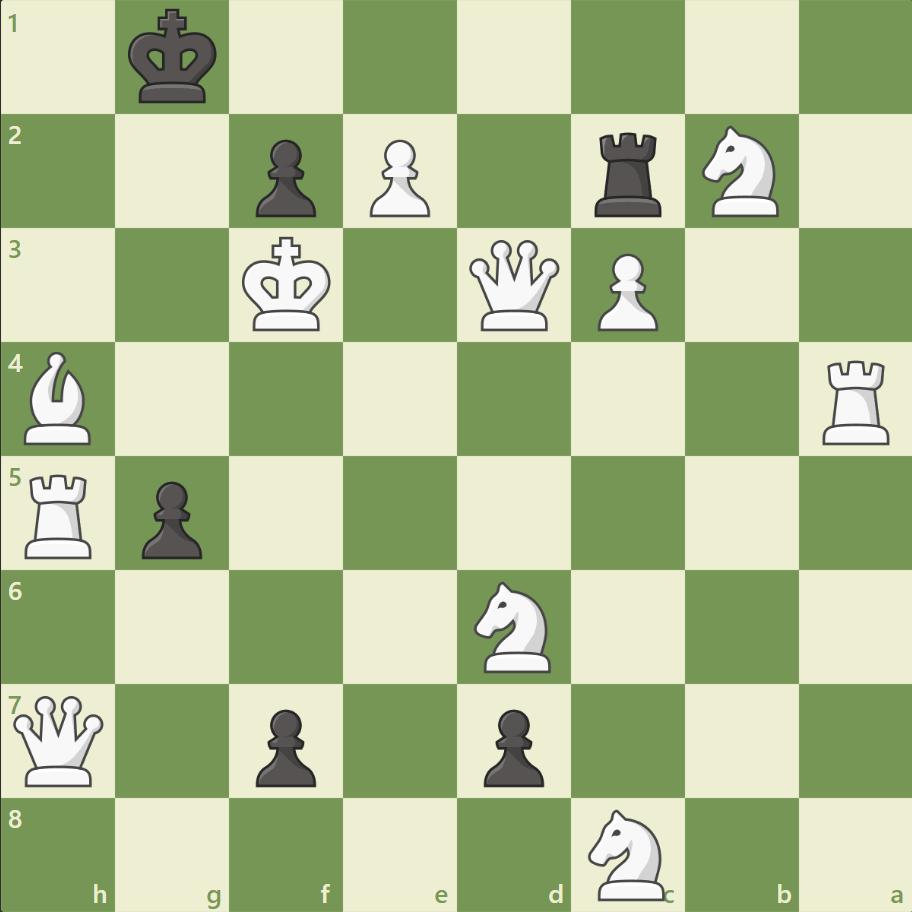B: (17, 347, 101, 449)
K: (238, 231, 338, 339)
N: (579, 802, 676, 904), (465, 575, 562, 677), (692, 121, 789, 223)
P: (588, 246, 662, 337), (361, 132, 435, 223)
Q: (10, 690, 109, 789), (464, 236, 563, 335)
R: (19, 466, 102, 563), (814, 352, 897, 449)
k: (124, 4, 224, 112)
p: (474, 700, 549, 791), (247, 700, 322, 791), (133, 473, 208, 564), (247, 132, 322, 223)
r: (587, 125, 670, 222)
